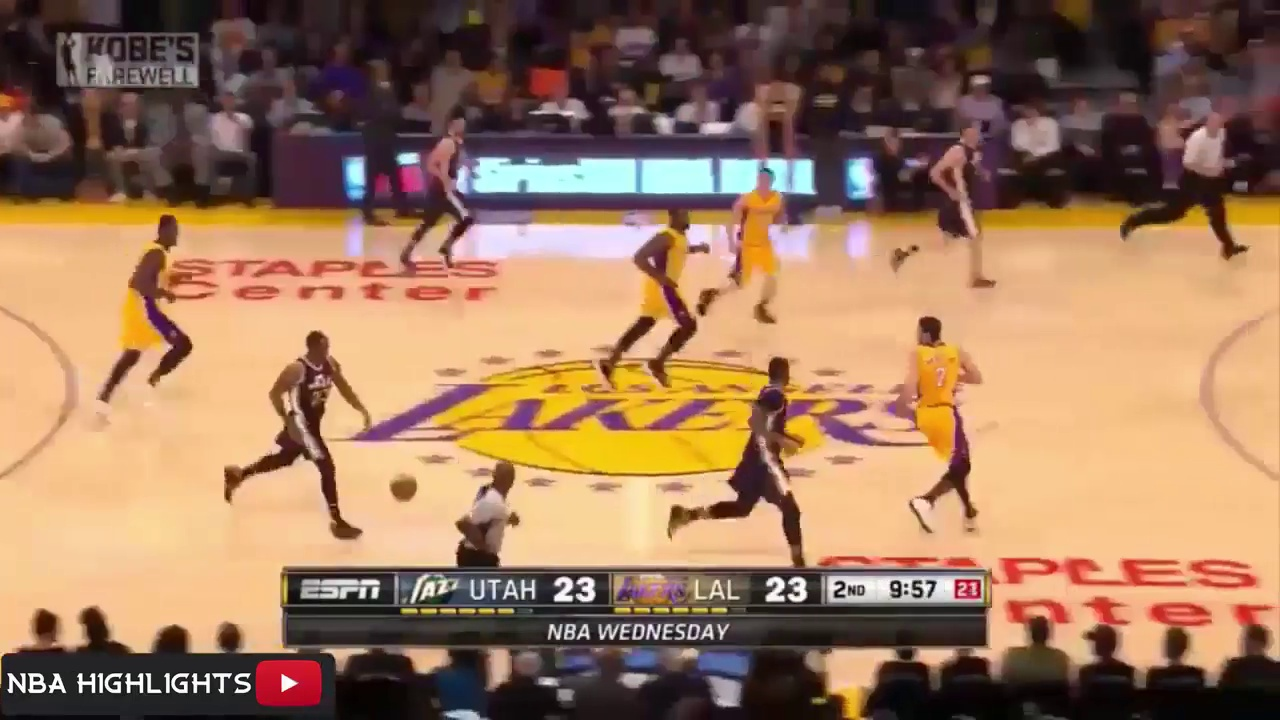jazz: (218, 323, 421, 543), (670, 354, 821, 570), (908, 125, 1006, 293), (388, 111, 487, 275)
lakers: (85, 208, 202, 425), (892, 312, 1002, 540), (604, 206, 705, 391), (705, 169, 794, 340)
